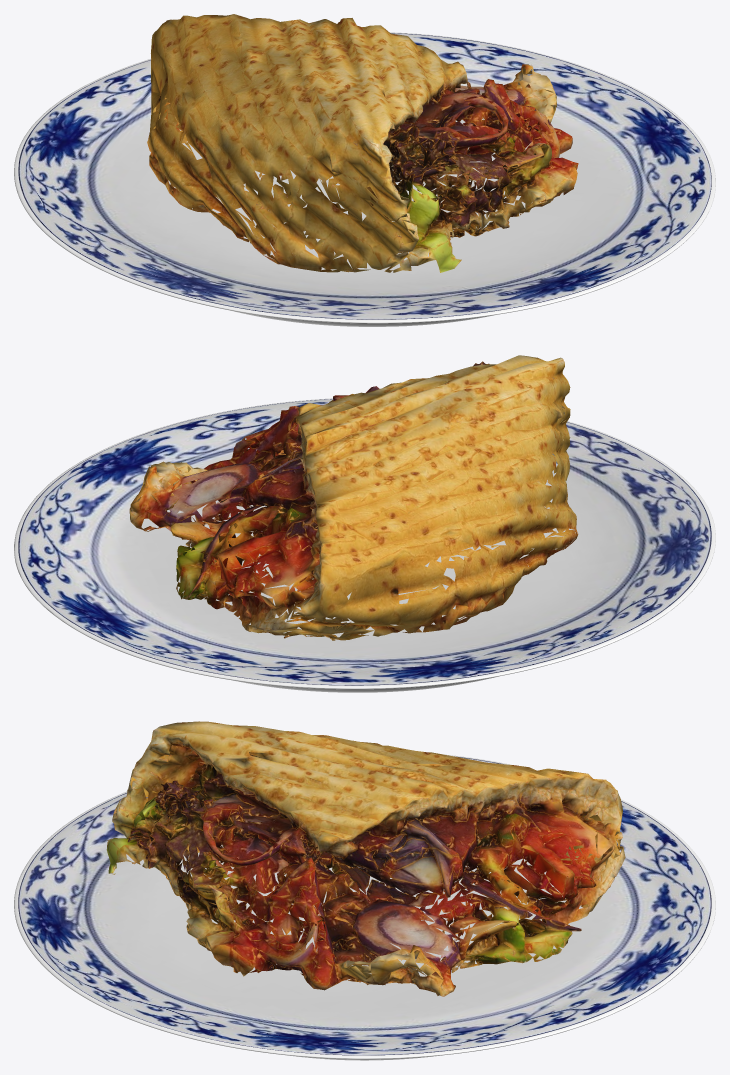
Rendered from doner-kebab-plate.glb.
3 views of the same model, one above another, from view 1: azimuth 30°, elevation 25°; view 2: azimuth 150°, elevation 25°; view 3: azimuth 270°, elevation 25° (orthographic).
Visible parts, largest first — view 1: plato_Cylinder, mesh-reduced_0.001; view 2: mesh-reduced_0.001, plato_Cylinder; view 3: mesh-reduced_0.001, plato_Cylinder.
Part boxes in pixels (box(x1,y1,x2,y2)): plato_Cylinder: box(14, 32, 715, 326); mesh-reduced_0.001: box(147, 14, 578, 272); mesh-reduced_0.001: box(129, 355, 578, 640); plato_Cylinder: box(14, 398, 715, 692); mesh-reduced_0.001: box(106, 721, 625, 996); plato_Cylinder: box(14, 754, 715, 1060).
Size of the model in its own units: 0.28 by 0.08 by 0.28.
Materials: 2 (2 with a texture image).
